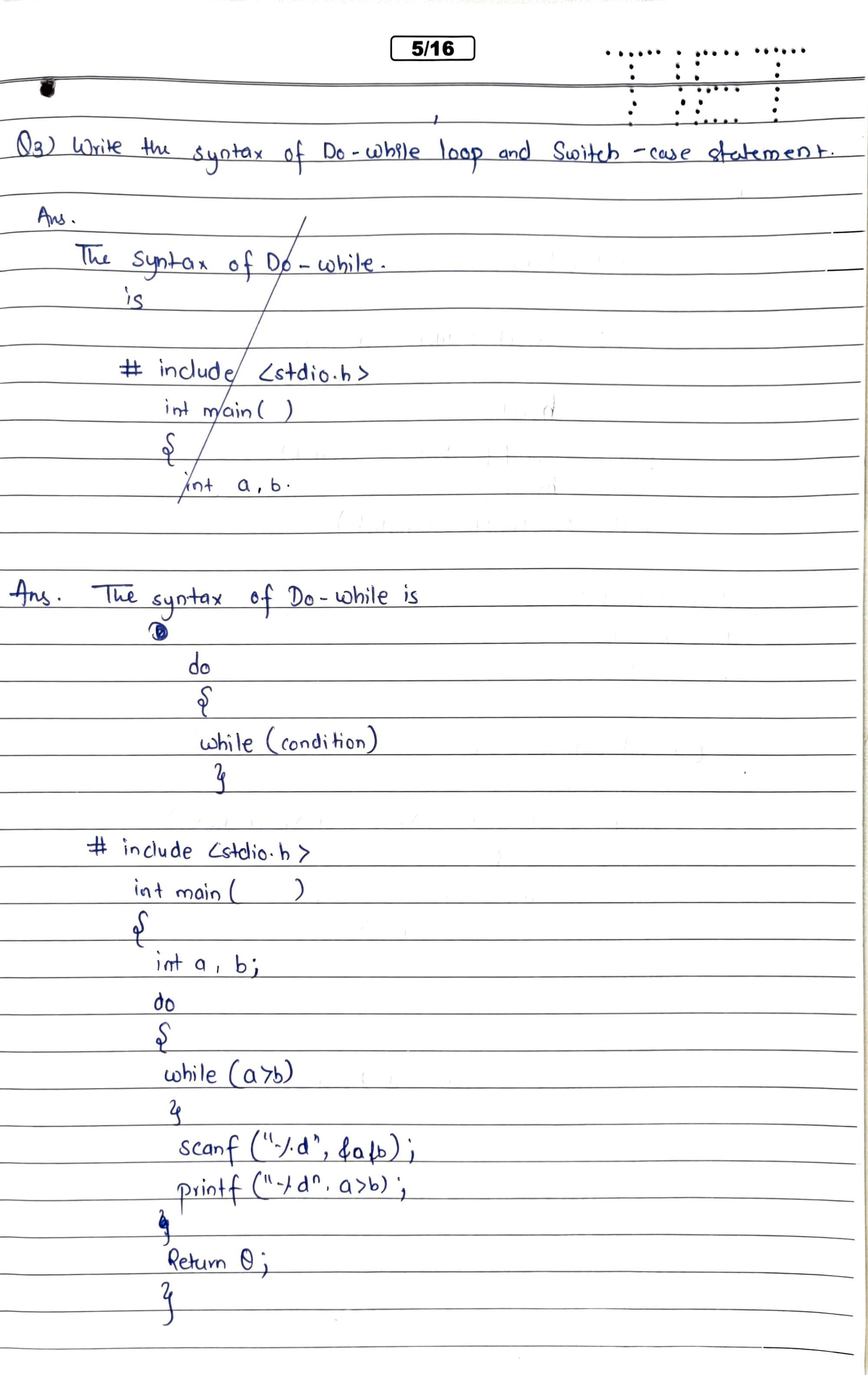cuttings: (70, 213, 387, 505), (155, 1207, 174, 1248), (146, 619, 171, 645)
